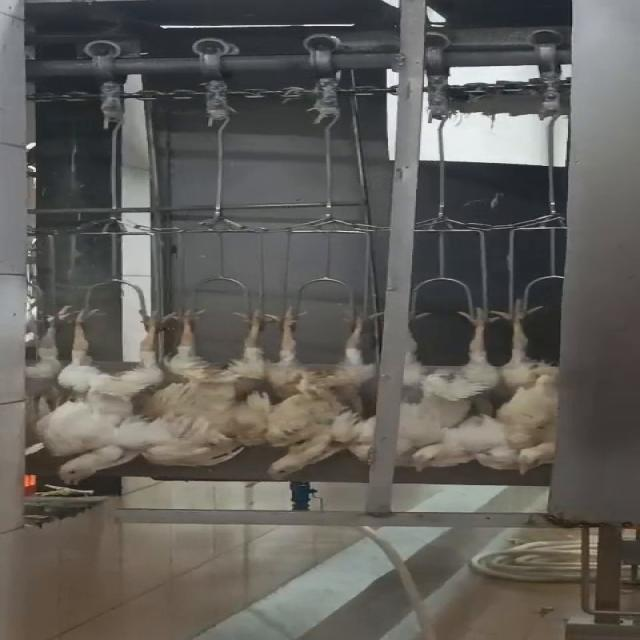chicken: (245, 310, 395, 482), (32, 297, 168, 485), (393, 297, 499, 473), (158, 307, 272, 469), (471, 292, 563, 478)
